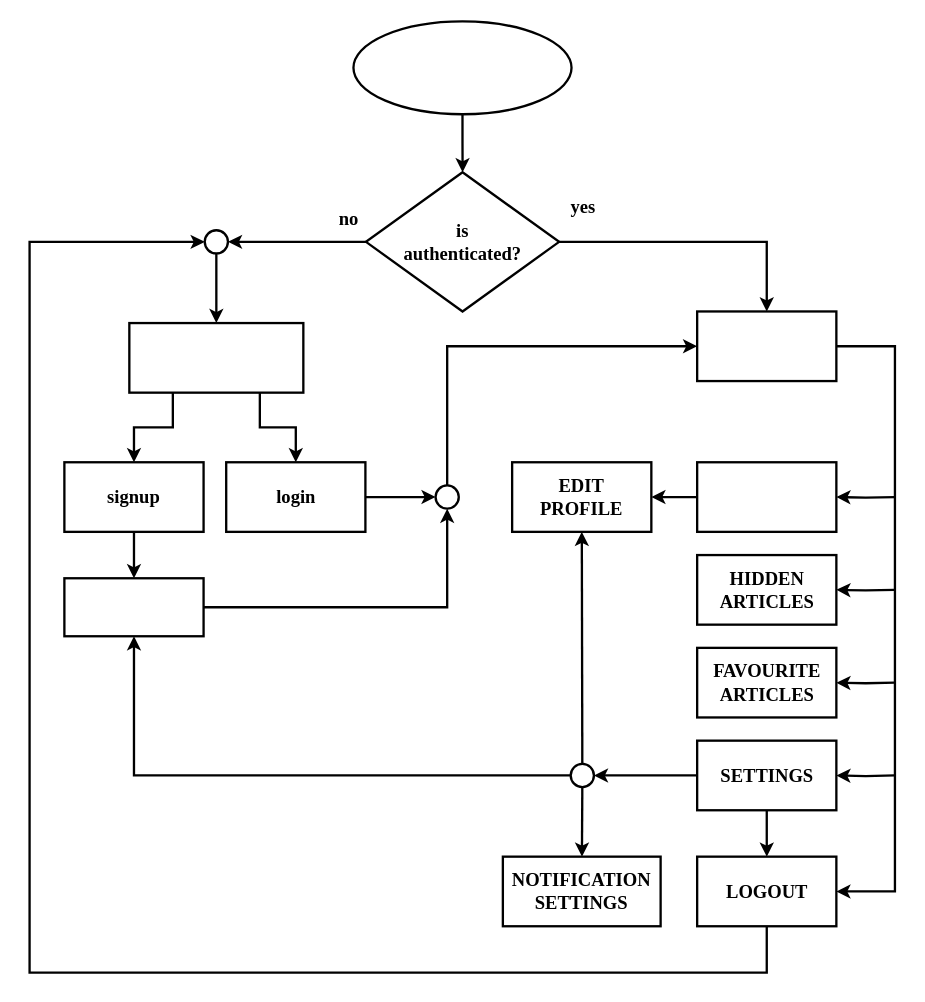
The diagram is 925 pixels wide and 1002 high, and some of its shapes have lost their labels. The centre of each missing label's shape, as x and y in pixels:
"APP START" belongs at point (462, 67).
"AUTHENTICATION" belongs at point (216, 357).
"HOMEPAGE" belongs at point (766, 346).
"PROFILE" belongs at point (766, 496).
"select tags" belongs at point (133, 607).
